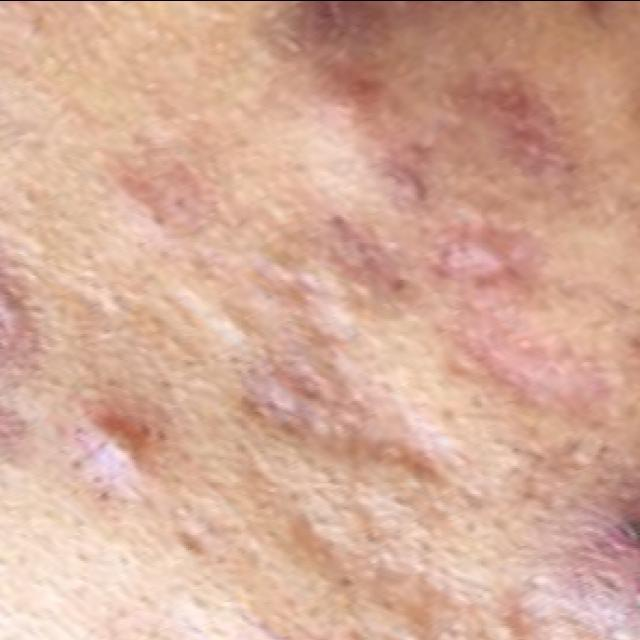acne: (497, 442, 627, 626), (438, 59, 586, 202), (55, 377, 183, 482), (232, 328, 344, 444), (451, 334, 621, 406), (396, 216, 556, 288), (103, 164, 221, 244), (0, 238, 37, 480)
